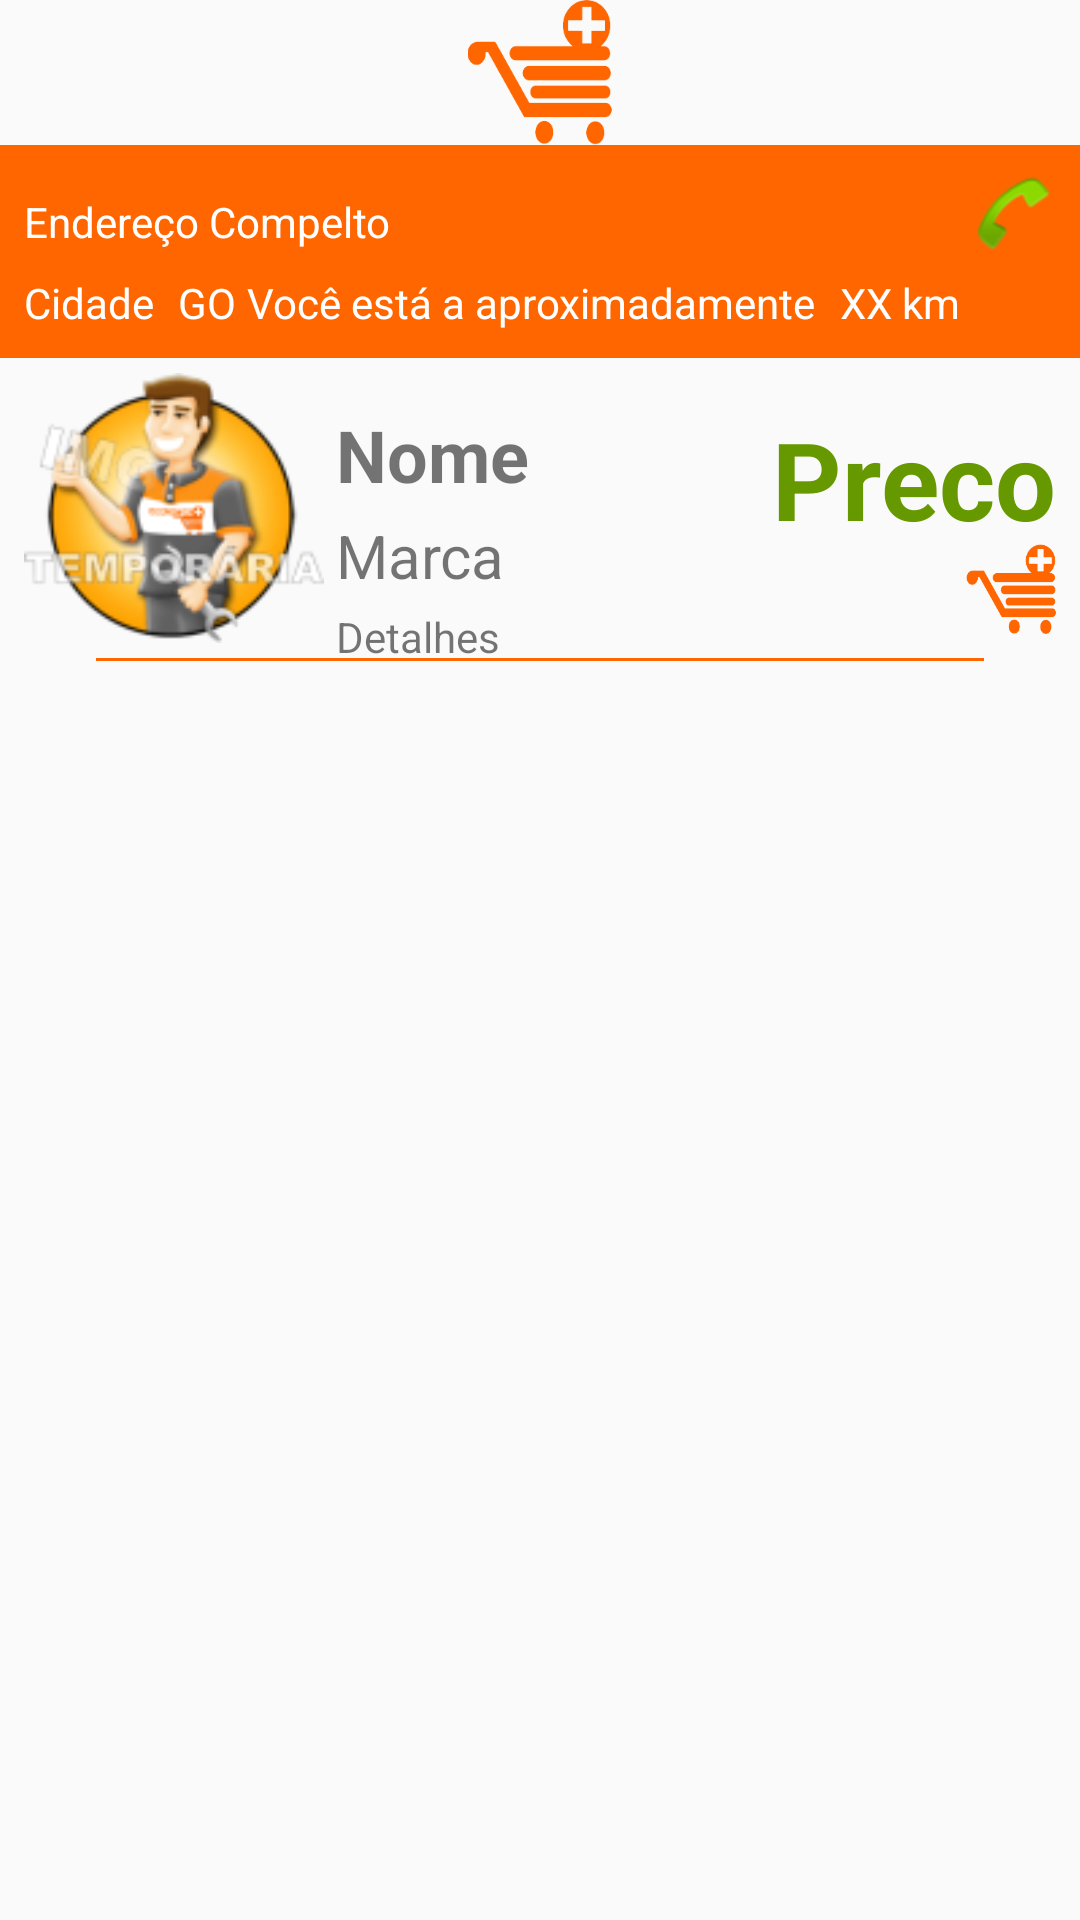

Where to tap for icons on this 1080px×1920px app screen, as [x,y]:
sym action call: [1013,213]
